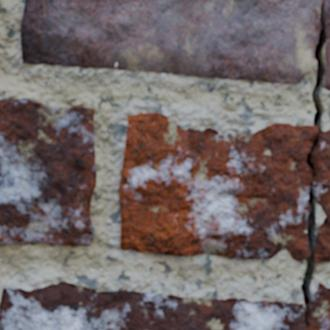brick: (0, 99, 95, 245)
broken_brick: (118, 112, 316, 261), (20, 0, 329, 84), (0, 280, 329, 329), (312, 128, 329, 263), (324, 41, 329, 90)
crack: (300, 2, 329, 327), (127, 114, 132, 139)
